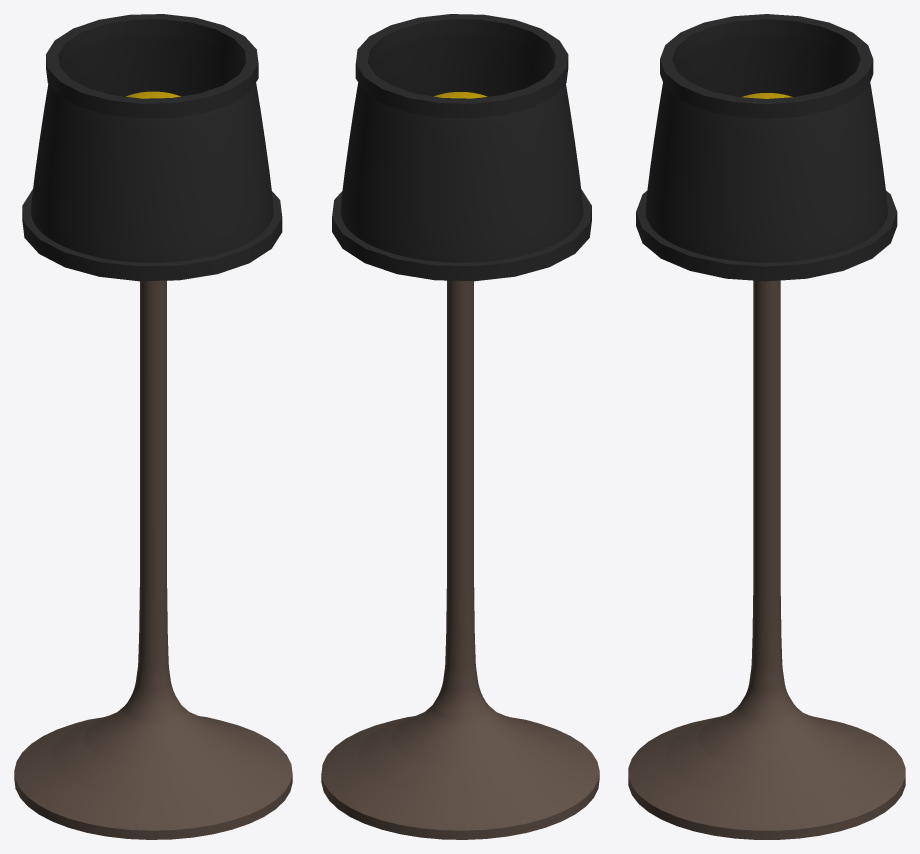
File: LampeSalon1_4.fbx
3 views of the same model, side by side, from view 1: azimuth 30°, elevation 25°; view 2: azimuth 150°, elevation 25°; view 3: azimuth 270°, elevation 25° (orthographic).
Parts seen in each view (by area): view 1: pPipe203, pCylinder1745, pPipe202, pPipe204; view 2: pPipe203, pCylinder1745, pPipe202, pPipe204; view 3: pPipe203, pCylinder1745, pPipe202, pPipe204.
Boxes of the visible parts, left/top/right/bottom form: pPipe203: left=31, top=34, right=273, bottom=262; pCylinder1745: left=14, top=280, right=292, bottom=839; pPipe202: left=46, top=14, right=258, bottom=118; pPipe204: left=22, top=189, right=282, bottom=281; pPipe203: left=340, top=34, right=583, bottom=262; pCylinder1745: left=321, top=280, right=599, bottom=839; pPipe202: left=355, top=14, right=568, bottom=118; pPipe204: left=332, top=189, right=591, bottom=281; pPipe203: left=645, top=34, right=887, bottom=262; pCylinder1745: left=628, top=280, right=905, bottom=839; pPipe202: left=660, top=14, right=873, bottom=118; pPipe204: left=636, top=190, right=897, bottom=281.
Size of the model in its own units: 30.29 by 87.06 by 30.29.
